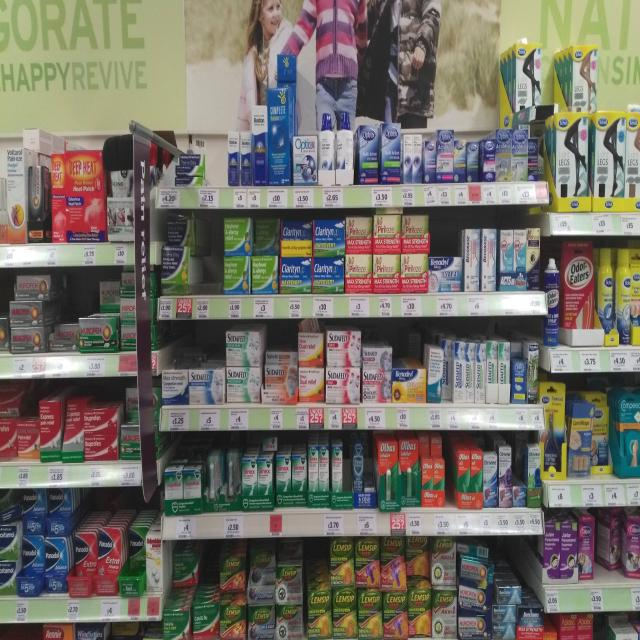100- O.O.S: (207, 134, 227, 208), (211, 214, 224, 319)
